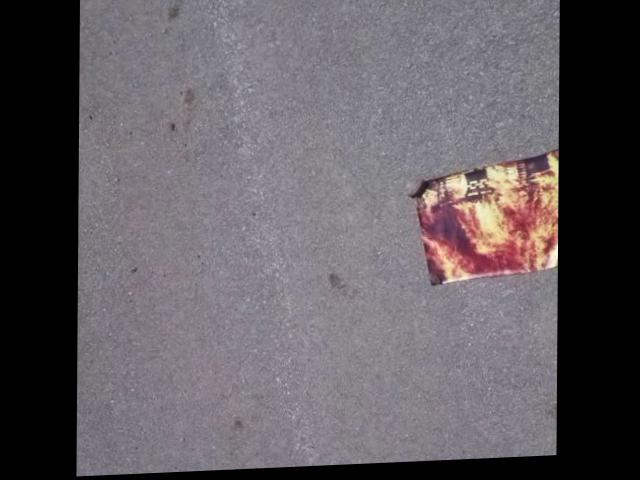fire-poster: (405, 150, 558, 293)
